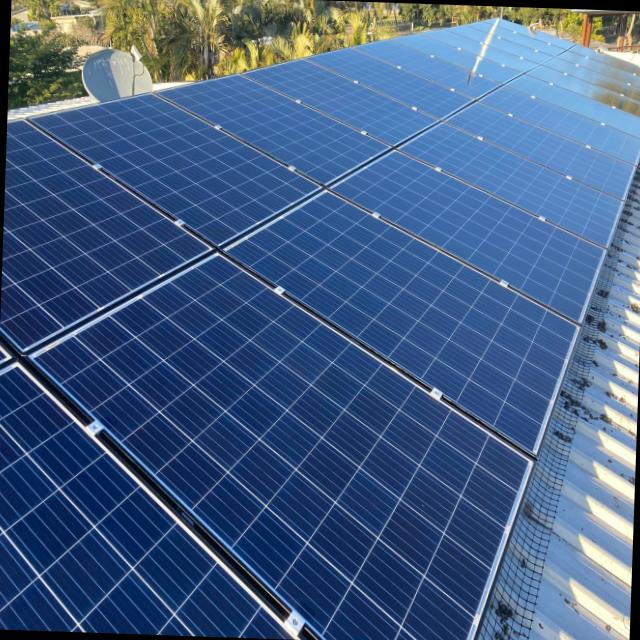no faulty: (0, 13, 640, 640)
